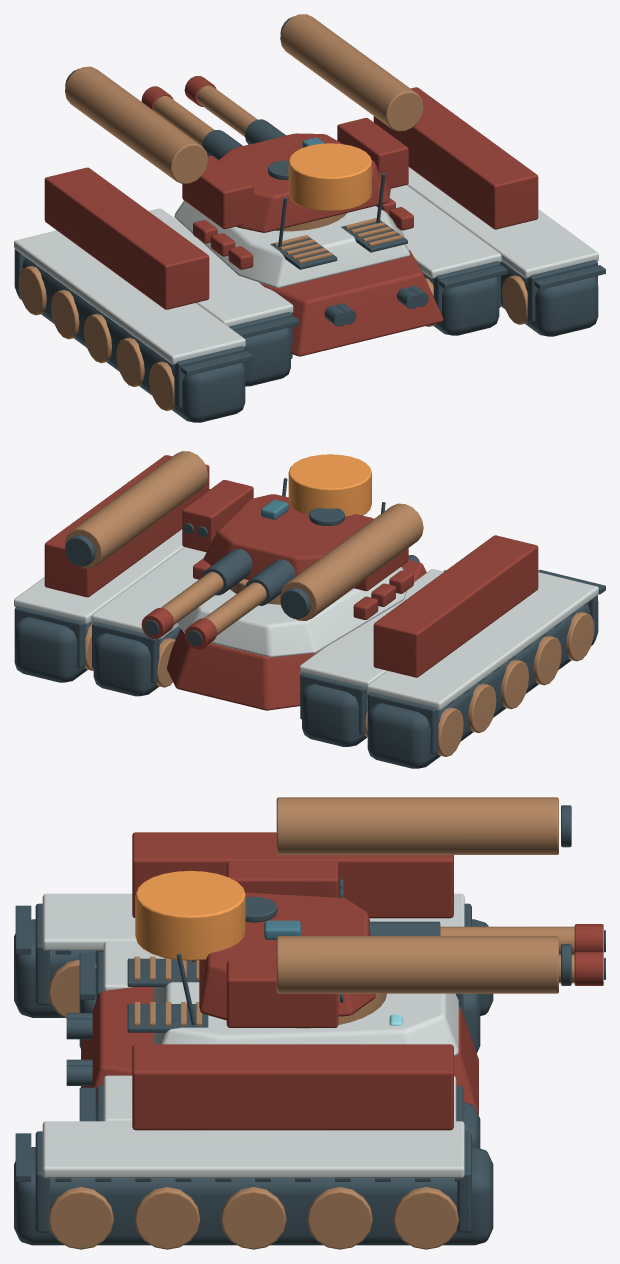
The model's file is BastionCrawler115.fbx.
3 renders of one model, top to bottom at view 1: azimuth 30°, elevation 25°; view 2: azimuth 150°, elevation 25°; view 3: azimuth 270°, elevation 25°, orthographic. The views are drawn at different scales.
Parts seen in each view (by area): view 1: Side blast deflector, Side blast deflector.001, Overhanging fender.010, Cast lower hull.004, Siege support gun.001, Siege support gun, Sloped glacis.004, Overhanging fender.011, Faceted turret.004, Recessed track drive.010, Exposed thermal core, Overhanging fender.009 (+25 smaller); view 2: Side blast deflector, Overhanging fender.010, Cast lower hull.004, Sloped glacis.004, Faceted turret.004, Siege support gun.001, Siege support gun, Recessed track drive.010, Side blast deflector.001, Exposed thermal core, Overhanging fender.009, Overhanging fender.011 (+26 smaller); view 3: Side blast deflector.001, Overhanging fender.011, Siege support gun, Siege support gun.001, Recessed track drive.011, Side blast deflector, Sloped glacis.004, Exposed thermal core, Faceted turret.004, Cast lower hull.004, Overhanging fender.010, Armoured missile pod.005 (+26 smaller).
Part boxes in pixels (<box>): Side blast deflector: <box>44,167,209,309</box>; Side blast deflector.001: <box>373,87,538,229</box>; Overhanging fender.010: <box>14,230,245,364</box>; Cast lower hull.004: <box>259,250,443,356</box>; Siege support gun.001: <box>280,14,423,131</box>; Siege support gun: <box>65,66,208,183</box>; Sloped glacis.004: <box>174,200,409,287</box>; Overhanging fender.011: <box>407,167,598,278</box>; Faceted turret.004: <box>219,133,390,232</box>; Recessed track drive.010: <box>15,257,245,422</box>; Exposed thermal core: <box>288,143,371,211</box>; Overhanging fender.009: <box>389,185,501,278</box>; Side blast deflector: <box>373,535,538,677</box>; Overhanging fender.010: <box>367,572,598,710</box>; Cast lower hull.004: <box>167,560,426,710</box>; Sloped glacis.004: <box>177,567,406,657</box>; Faceted turret.004: <box>203,494,373,579</box>; Siege support gun.001: <box>65,451,208,568</box>; Siege support gun: <box>280,503,423,620</box>; Recessed track drive.010: <box>367,601,598,768</box>; Side blast deflector.001: <box>44,455,209,597</box>; Exposed thermal core: <box>288,454,371,516</box>; Overhanging fender.009: <box>91,547,206,639</box>; Overhanging fender.011: <box>14,529,183,624</box>; Side blast deflector.001: <box>132,1044,453,1130</box>; Overhanging fender.011: <box>42,1121,464,1178</box>; Siege support gun: <box>276,797,558,854</box>; Siege support gun.001: <box>276,936,558,993</box>; Recessed track drive.011: <box>14,1147,493,1245</box>; Side blast deflector: <box>132,832,453,918</box>; Sloped glacis.004: <box>153,982,458,1056</box>; Exposed thermal core: <box>135,870,245,960</box>; Faceted turret.004: <box>199,892,375,1020</box>; Cast lower hull.004: <box>81,987,478,1114</box>; Overhanging fender.010: <box>42,893,464,950</box>; Armoured missile pod.005: <box>226,960,338,1027</box>.
Bounding box in the file's own units: 496 × 210 × 451.
